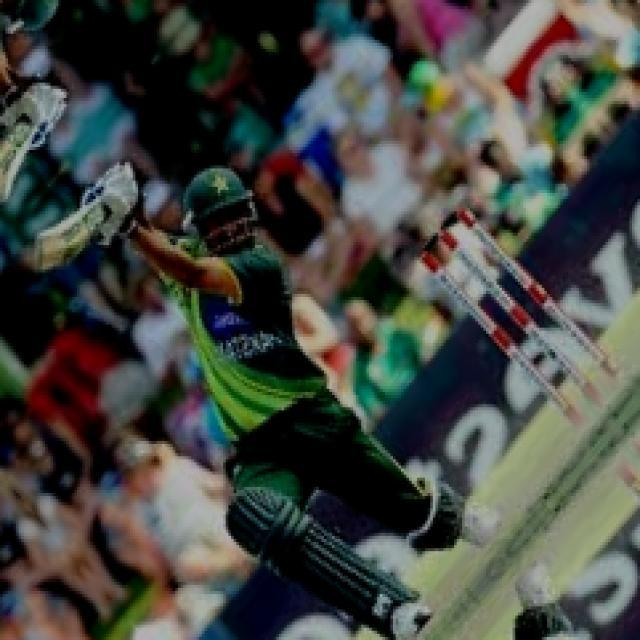bat: (6, 203, 115, 282), (28, 230, 43, 271)
